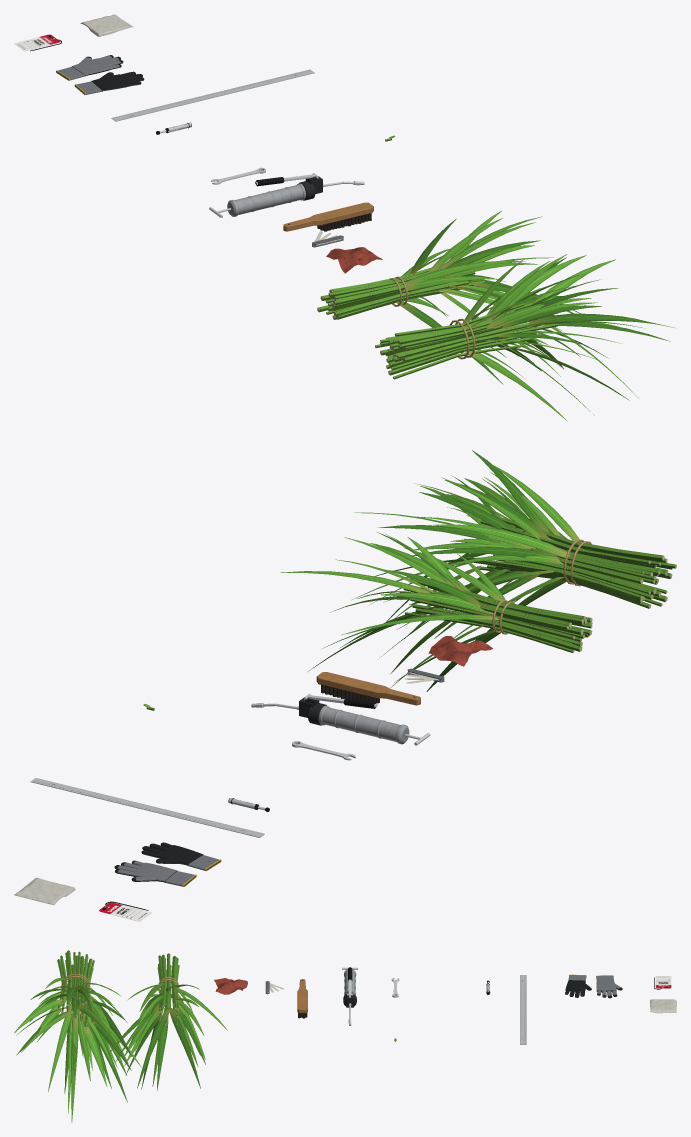
Rendered from tools-7GsMLikL.glb.
3 renders of one model, top to bottom at view 1: azimuth 30°, elevation 25°; view 2: azimuth 150°, elevation 25°; view 3: azimuth 270°, elevation 25°, orthographic. The views are drawn at different scales.
Visible parts, largest first — view 1: FORAGE_bundle_thick, FORAGE_bundle, TOOL_grease_gun, TOOL_gloves, TOOL_brush, TOOL_straightedge, TOOL_rag, TOOL_rag_clean; view 2: FORAGE_bundle_thick, FORAGE_bundle, TOOL_grease_gun, TOOL_gloves, TOOL_brush, TOOL_straightedge, TOOL_rag, TOOL_rag_clean; view 3: FORAGE_bundle_thick, FORAGE_bundle, TOOL_gloves, TOOL_grease_gun, TOOL_straightedge, TOOL_rag, TOOL_rag_clean, TOOL_brush.
Boxes of the visible parts, <box> form: FORAGE_bundle_thick: <box>375,254,676,421</box>; FORAGE_bundle: <box>317,210,580,384</box>; TOOL_grease_gun: <box>209,173,364,217</box>; TOOL_gloves: <box>56,55,144,94</box>; TOOL_brush: <box>283,202,373,231</box>; TOOL_straightedge: <box>111,69,314,121</box>; TOOL_rag: <box>326,247,382,273</box>; TOOL_rag_clean: <box>80,14,133,36</box>; FORAGE_bundle_thick: <box>352,450,676,656</box>; FORAGE_bundle: <box>280,532,592,691</box>; TOOL_grease_gun: <box>251,693,430,745</box>; TOOL_gloves: <box>114,842,221,886</box>; TOOL_brush: <box>316,672,420,705</box>; TOOL_straightedge: <box>30,778,264,837</box>; TOOL_rag: <box>428,636,493,666</box>; TOOL_rag_clean: <box>14,877,75,905</box>; FORAGE_bundle_thick: <box>14,950,141,1122</box>; FORAGE_bundle: <box>108,953,227,1090</box>; TOOL_gloves: <box>565,974,622,998</box>; TOOL_grease_gun: <box>342,967,358,1025</box>; TOOL_straightedge: <box>520,975,526,1044</box>; TOOL_rag: <box>214,978,247,994</box>; TOOL_rag_clean: <box>650,999,676,1013</box>; TOOL_brush: <box>297,979,307,1018</box>.
Size of the model in its own units: 1.02 by 0.5923 by 3.22.
Materials: 27 (14 with a texture image).
